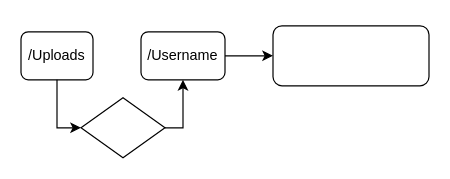
The diagram is 450 pixels wide and 179 high, and some of its shapes have lost their labels. The box of each missing label's shape, as (x1, y1, x2, y2) in pixels:
/firstName_lastName _uniqueNumber.fileType: (272, 25, 429, 86)
Proxy: (80, 97, 165, 158)
